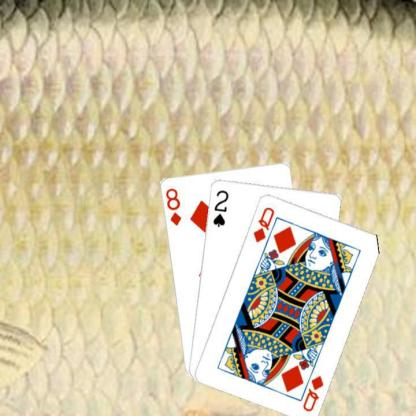2S: (210, 187, 229, 228)
8D: (163, 186, 182, 227)
QD: (250, 204, 276, 244), (300, 372, 325, 413)
